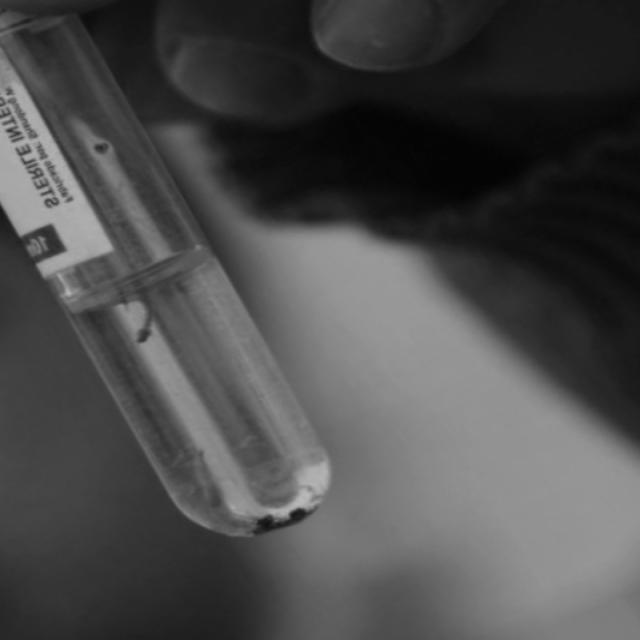larvas: (124, 294, 150, 346), (194, 450, 218, 502)
